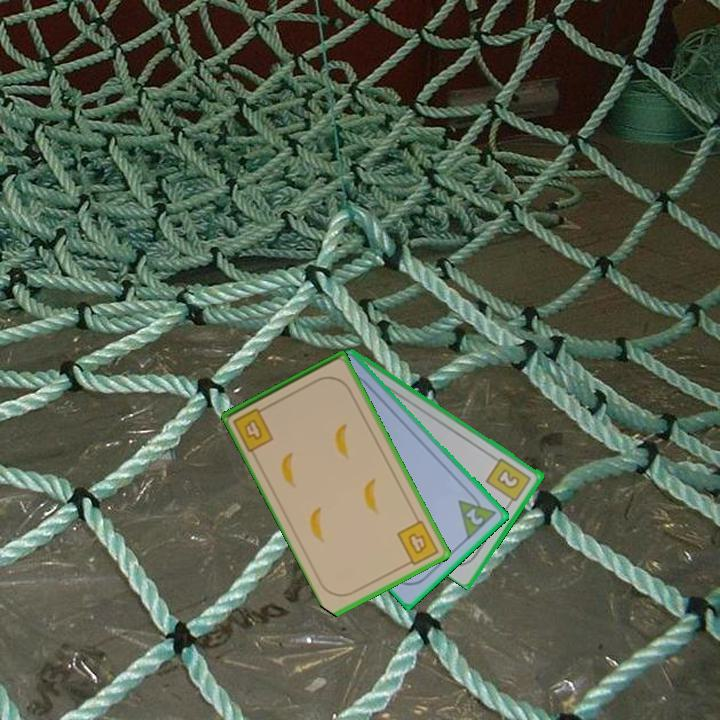2b: (483, 454, 534, 508)
2p: (455, 488, 500, 542)
4b: (393, 517, 442, 569), (229, 402, 277, 455)
